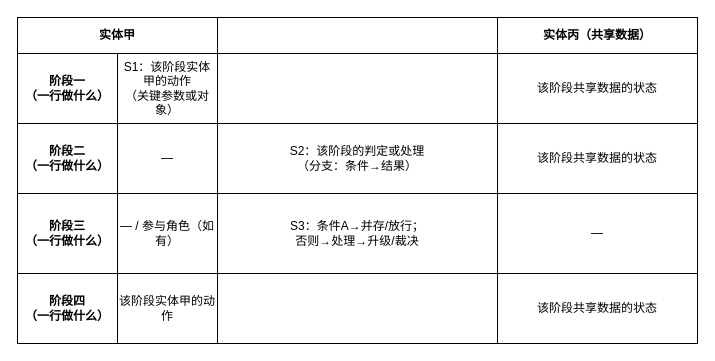
This 715x361 diagram has some shape labels left out. Here are the shapes that lost their labels. From the top down, the centre of each, then its label:
At point (357, 35): "实体乙（编排/中枢）".
At point (357, 88): "该阶段实体乙的动作 （与实体甲的交接）".
At point (357, 308): "S4：分支A→处理一； 分支B→处理二".
